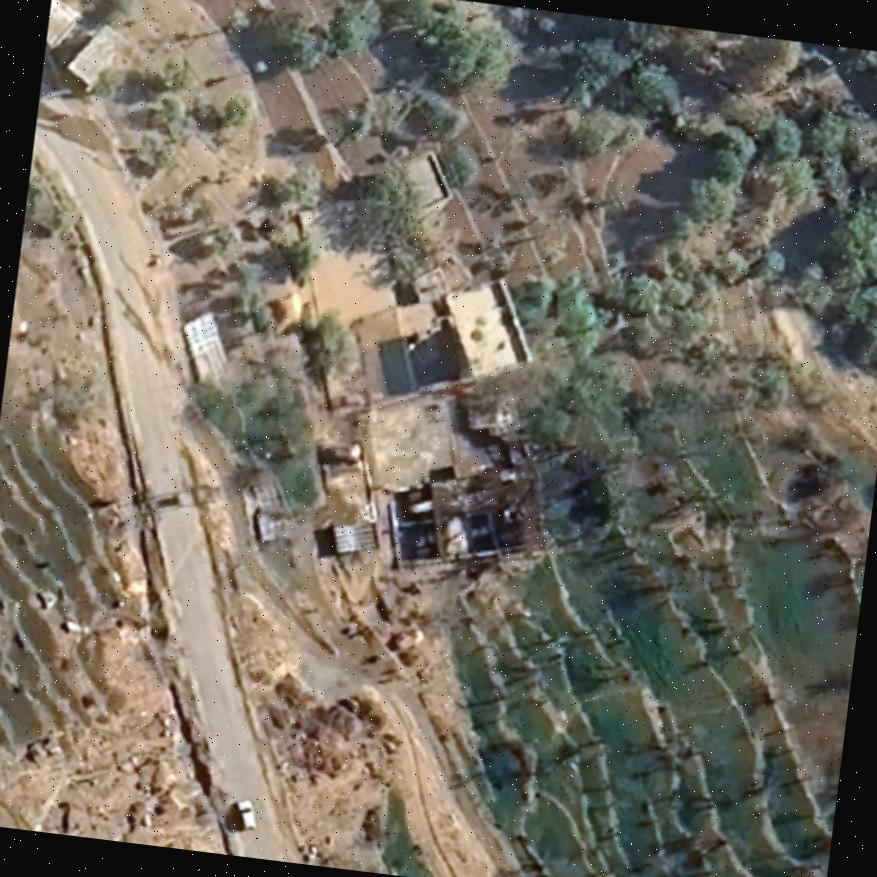Solarpanel: (329, 518, 379, 558)
